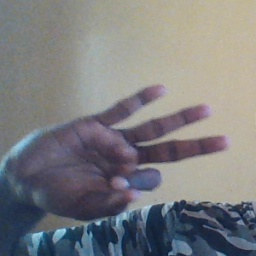K: (5, 82, 231, 224)
